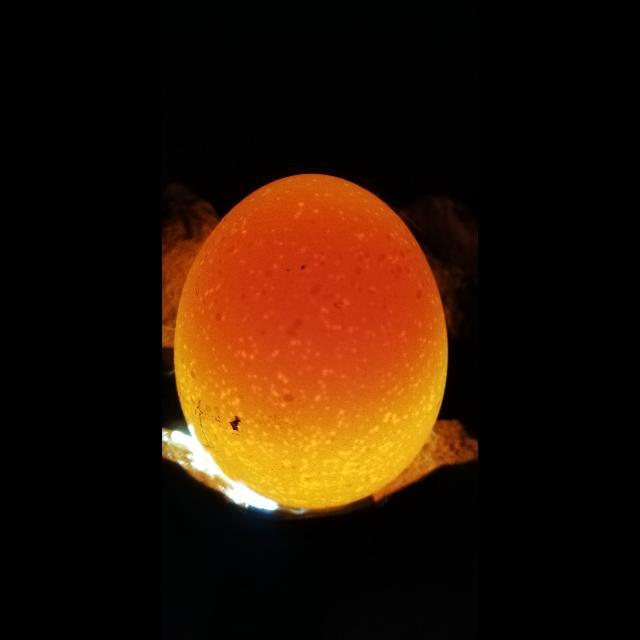Fertile: (174, 170, 456, 518)
